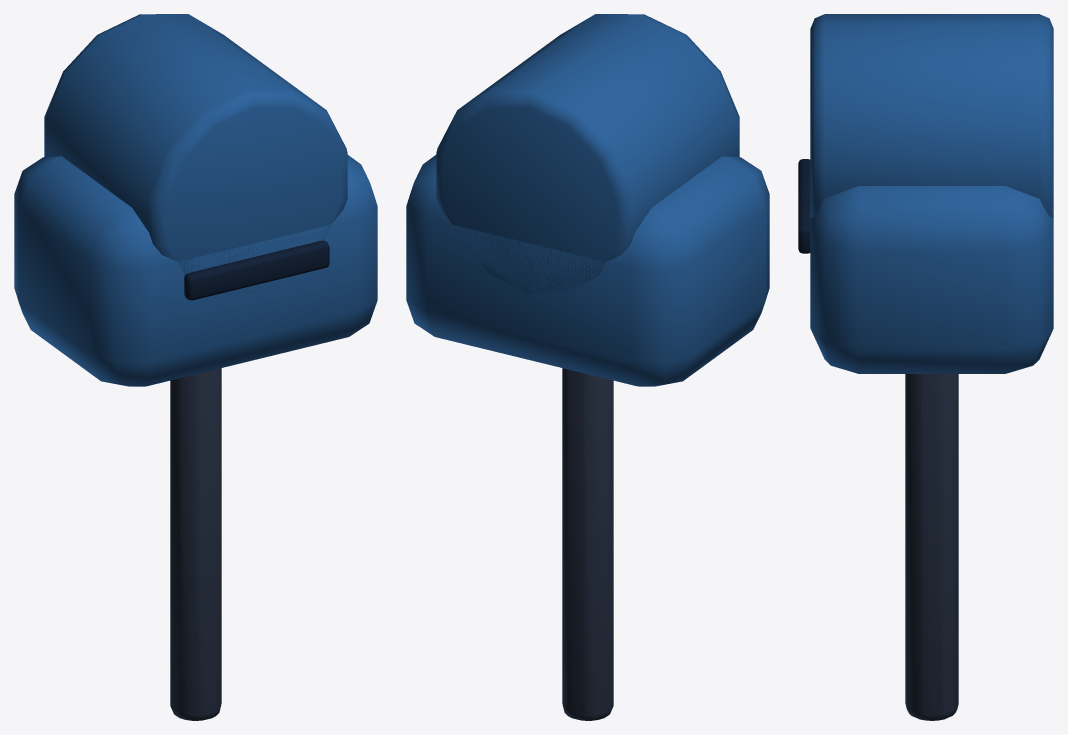
Rendered from prop_mailbox.glb.
3 renders of one model, left to right at view 1: azimuth 30°, elevation 25°; view 2: azimuth 150°, elevation 25°; view 3: azimuth 270°, elevation 25°, orthographic. The views are drawn at different scales.
Parts seen in each view (by area): view 1: prop_mailbox; view 2: prop_mailbox; view 3: prop_mailbox.
Part boxes in pixels (x1=…): prop_mailbox: x1=14, y1=14, x2=377, y2=720; prop_mailbox: x1=406, y1=14, x2=769, y2=720; prop_mailbox: x1=798, y1=14, x2=1053, y2=720.
Size of the model in its own units: 0.7 by 1.56 by 0.525.
